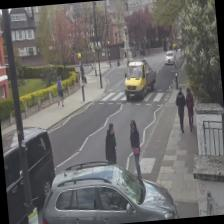person: (128, 119, 144, 180), (102, 123, 118, 176), (174, 87, 188, 133), (184, 87, 196, 130)
